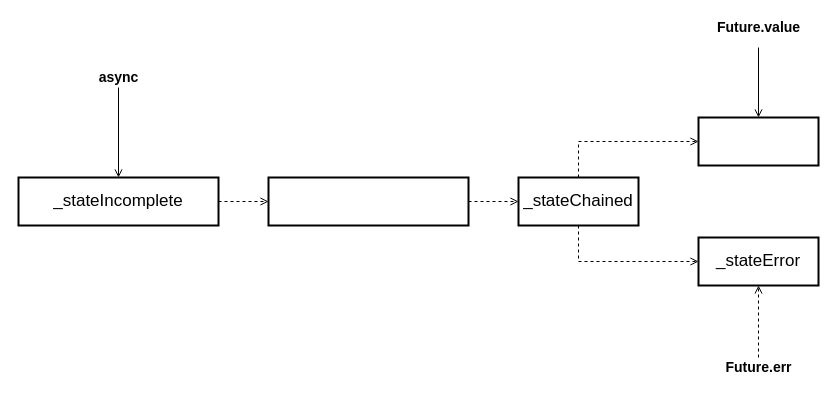
Some shapes in this 836 by 394 pixel diagram are drawn without their labels. The centre of each missing label's shape, as x and y in pixels:
_statePeningComplete: the point at 368,201
_stateValue: the point at 758,141
